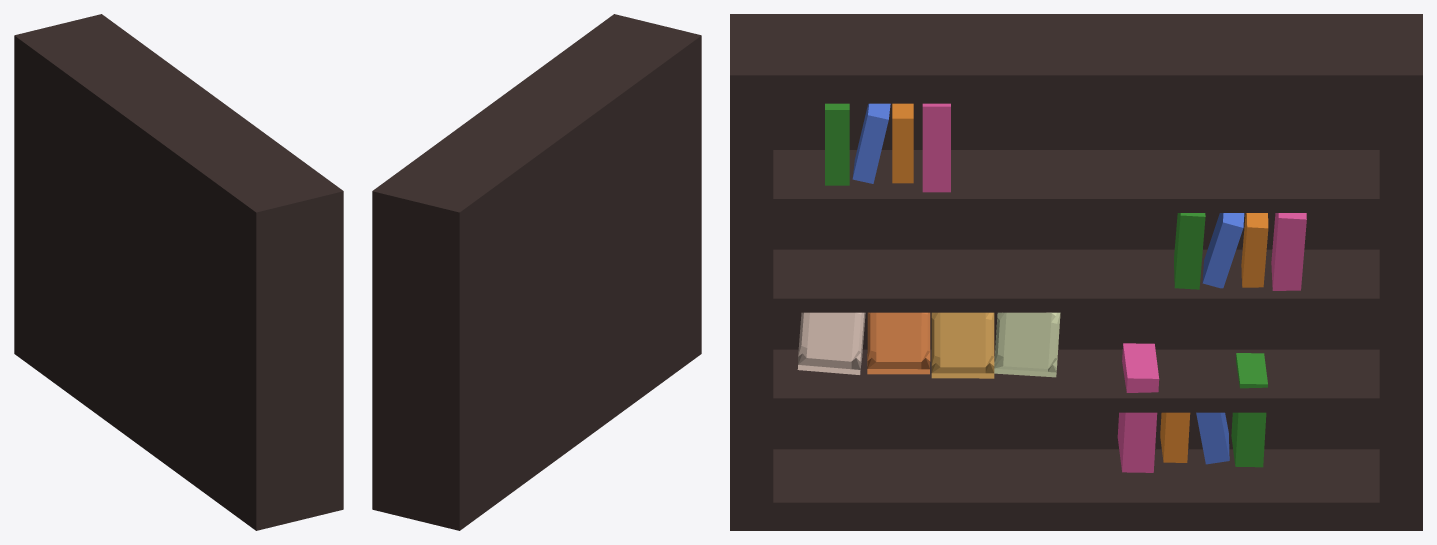
The model's file is theSmallWallOfBEAN.glb.
3 views of the same model, side by side, from view 1: azimuth 30°, elevation 25°; view 2: azimuth 150°, elevation 25°; view 3: azimuth 270°, elevation 25° (orthographic). The views are drawn at different scales.
Visible parts, largest first — view 1: Cube; view 2: Cube; view 3: Cube, Cube.001, Cube.012, Cube.008, Cube.004.
Boxes of the visible parts, bbox=[...] form: Cube: bbox=[14, 14, 343, 530]; Cube: bbox=[372, 14, 701, 530]; Cube: bbox=[730, 14, 1422, 530]; Cube.001: bbox=[797, 312, 1060, 378]; Cube.012: bbox=[1117, 343, 1267, 472]; Cube.008: bbox=[1174, 213, 1306, 290]; Cube.004: bbox=[825, 103, 950, 192].
Size of the model in its own units: 5.9 by 20.49 by 28.23.
